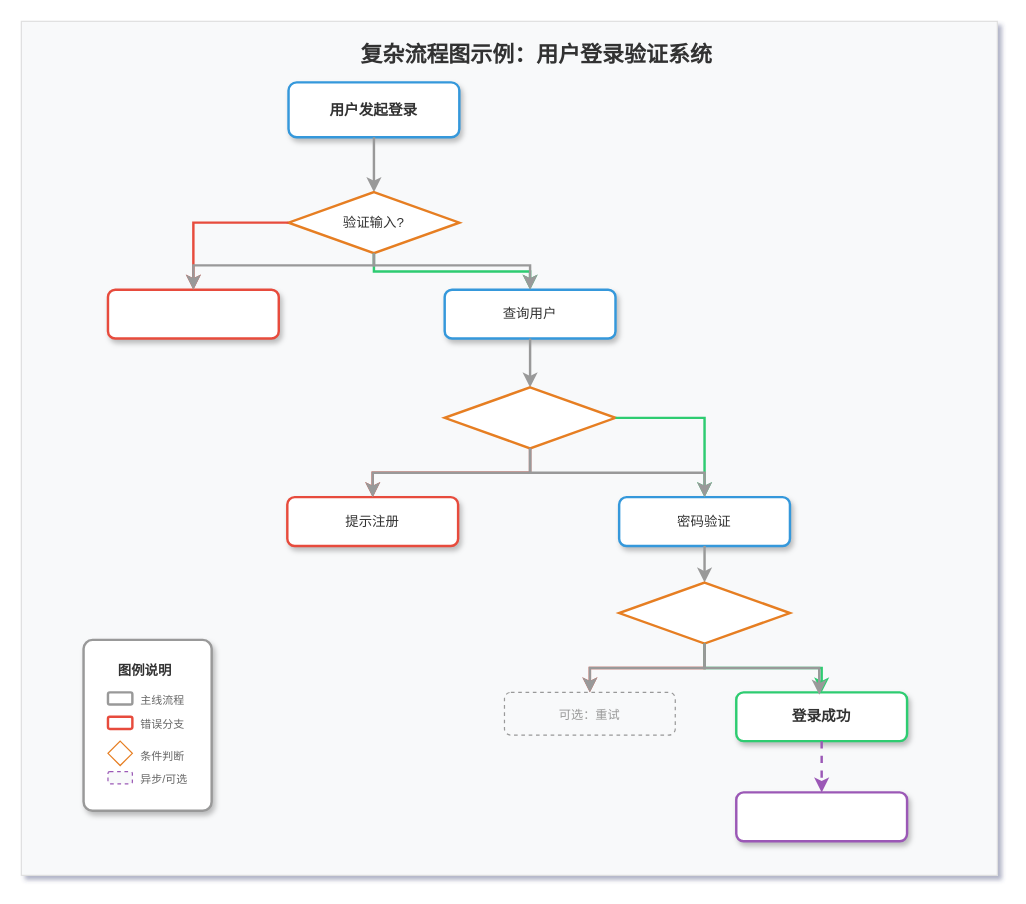
Some shapes in this 1026 by 904 pixel diagram are drawn without their labels. The centre of each missing label's shape, as x and y in pixels:
密码正确?: point 704,612
异步记录日志: point 822,818
用户存在?: point 529,417
返回错误提示: point 194,315
